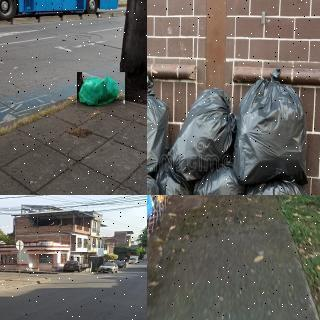Garbage: (233, 62, 315, 190), (167, 83, 239, 182), (147, 73, 173, 171), (192, 161, 248, 195), (77, 72, 125, 108), (154, 161, 203, 195), (242, 173, 316, 195), (29, 268, 33, 272), (25, 268, 30, 271)
